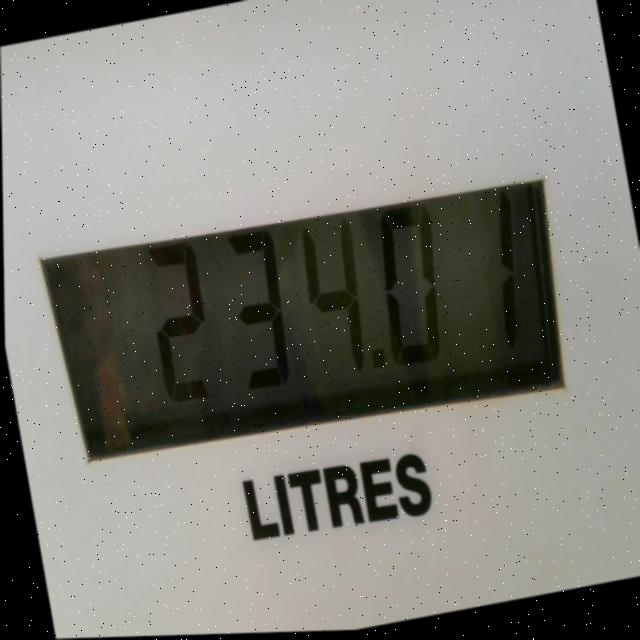.: (363, 335, 398, 398)
0: (359, 204, 464, 395)
1: (449, 177, 542, 359)
2: (125, 229, 226, 422)
3: (211, 216, 301, 416)
4: (281, 204, 389, 411)
